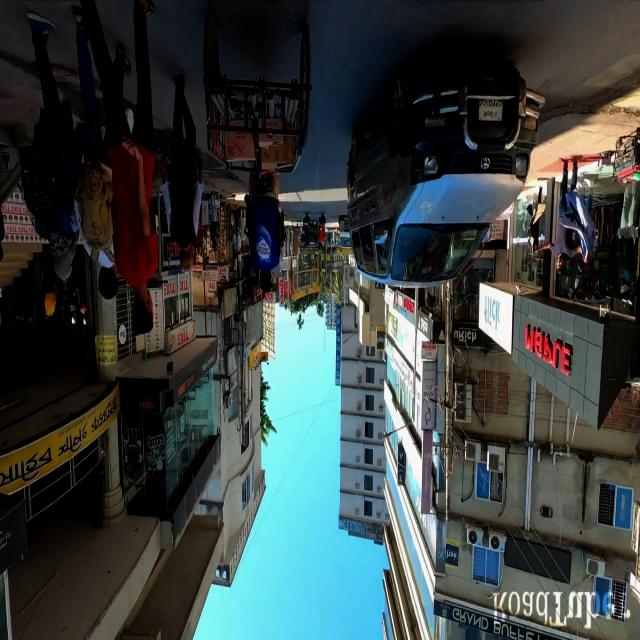silver: (351, 45, 548, 290)
white: (339, 216, 350, 251)
